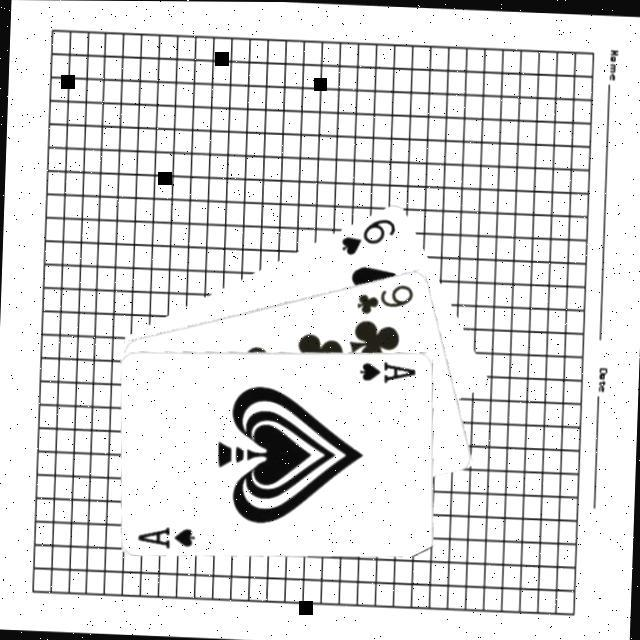6S: (339, 209, 401, 256)
9C: (354, 276, 418, 316)
AS: (358, 354, 422, 384), (136, 520, 200, 549)
